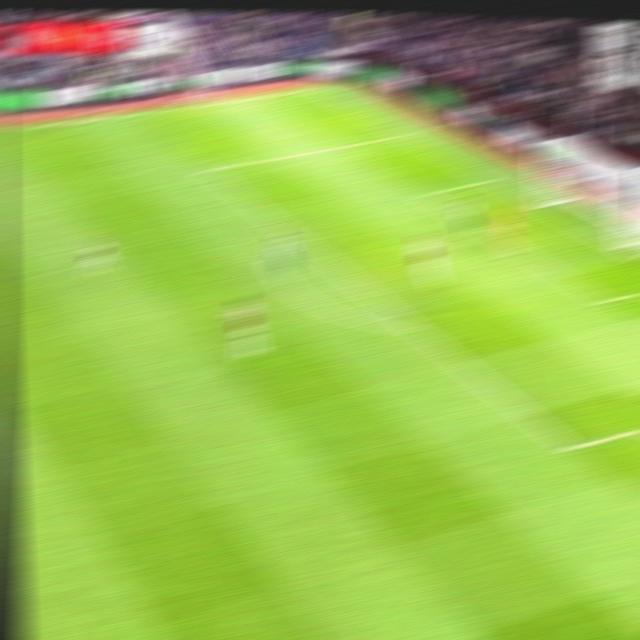bigarea_bottom_inner: (558, 437, 584, 458)
bigarea_top_inner: (196, 163, 218, 175)
bigarea_top_outter: (393, 130, 411, 138)
bottom_arc_area_intersection: (405, 322, 427, 336)
corner: (305, 85, 324, 91)
smallarea_bottom_inner: (593, 292, 618, 309)
smallarea_top_inner: (414, 188, 432, 198)
smallarea_top_outter: (478, 175, 497, 185)
top_arc_area_intersection: (278, 226, 296, 236)
